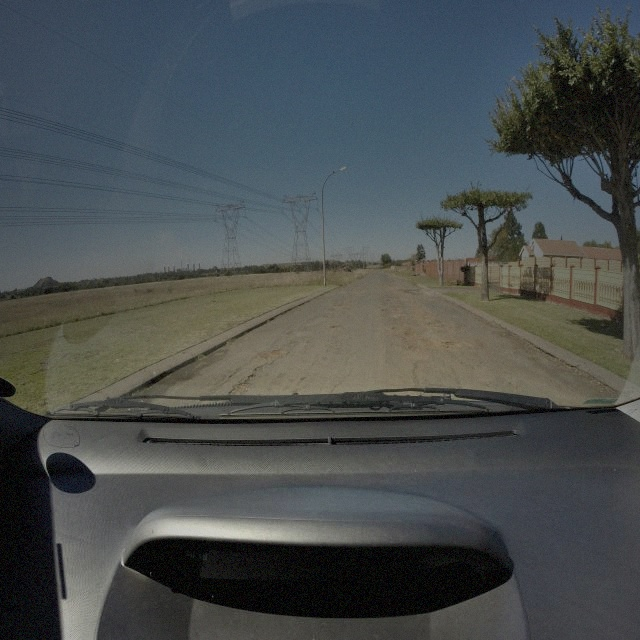pothole: (262, 344, 289, 364), (229, 375, 251, 398), (442, 338, 461, 352), (427, 320, 446, 329), (405, 327, 419, 339), (408, 343, 422, 354), (329, 322, 342, 332), (392, 310, 406, 319), (393, 325, 404, 334), (334, 303, 342, 307)
